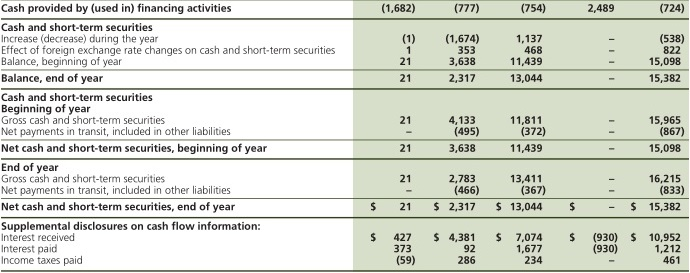column: (1, 1, 337, 273), (509, 1, 547, 273), (648, 1, 685, 272), (445, 1, 480, 273), (381, 1, 415, 272), (587, 1, 620, 273), (568, 1, 576, 273), (495, 1, 502, 273), (630, 1, 637, 273), (369, 1, 375, 273), (433, 1, 439, 273)
row: (1, 161, 690, 174), (1, 44, 690, 56), (1, 56, 690, 68), (1, 142, 690, 154), (1, 254, 690, 266), (1, 221, 689, 233), (1, 22, 690, 33), (1, 33, 690, 44), (1, 72, 690, 83), (1, 91, 690, 102), (1, 185, 690, 196), (1, 104, 689, 115), (1, 126, 689, 137), (1, 174, 689, 185), (1, 201, 689, 212), (1, 232, 689, 243), (1, 243, 689, 254), (1, 115, 689, 125), (1, 3, 687, 13)
